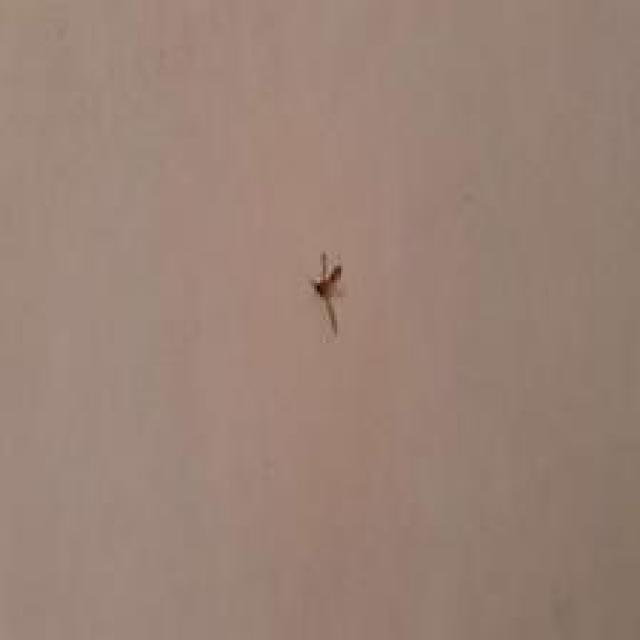Culex: (310, 250, 344, 336)
